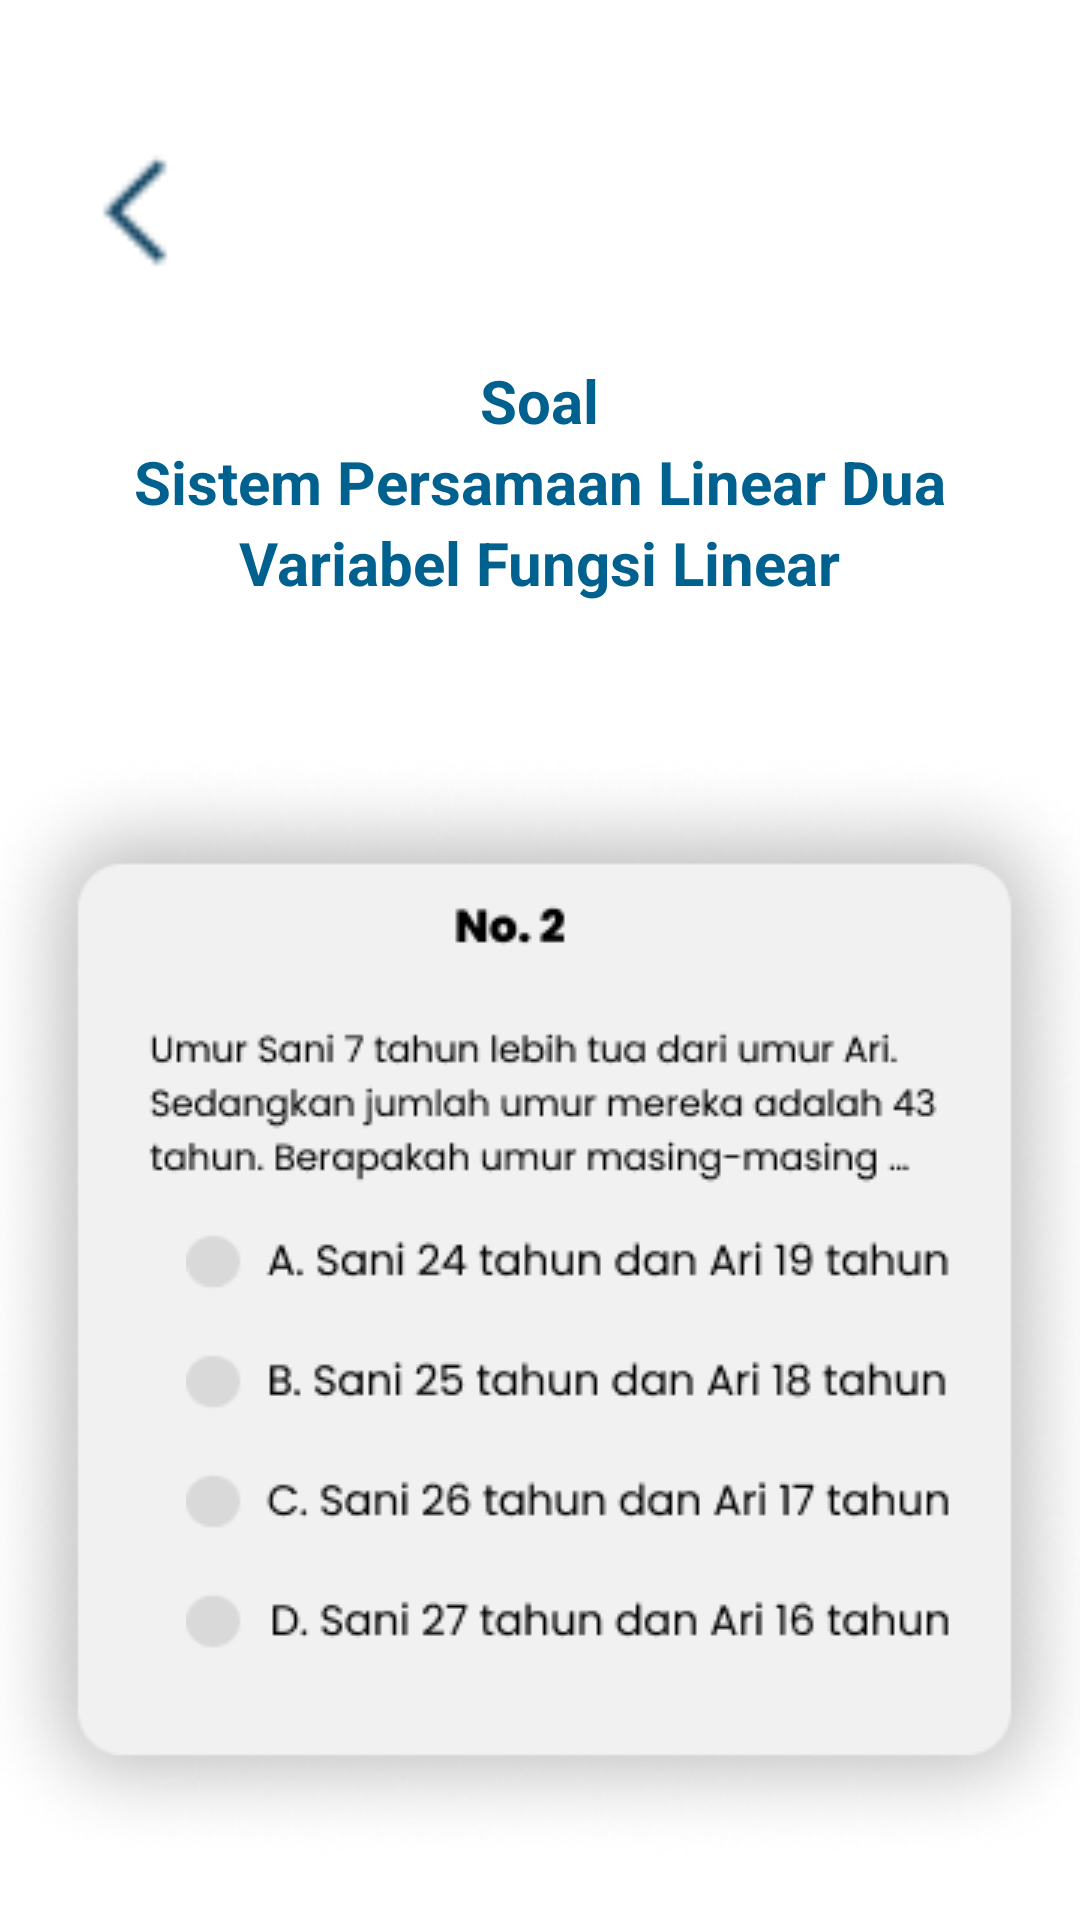

Named icons in this screenshot (1080×1920) and their bounding boxes, (x1, y1, x2, y2):
kembali: (103, 158, 167, 266)
